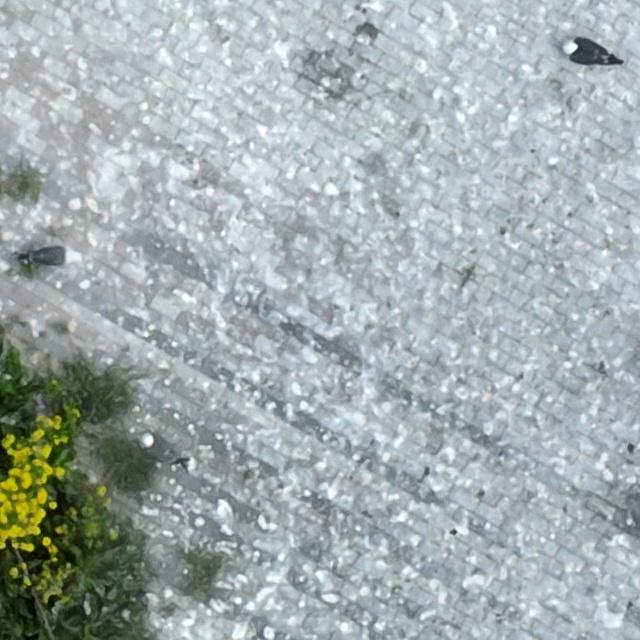umineko: (140, 434, 176, 460), (564, 43, 607, 64), (26, 248, 70, 267)
